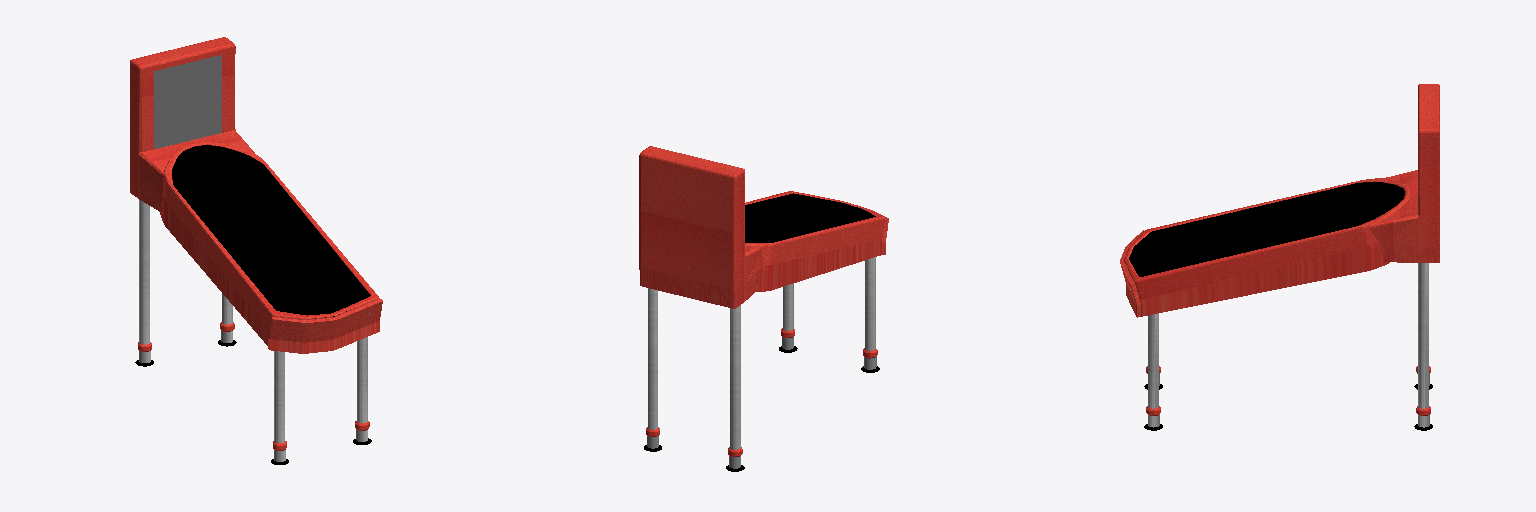
3 views of the same model, side by side, from view 1: azimuth 30°, elevation 25°; view 2: azimuth 150°, elevation 25°; view 3: azimuth 270°, elevation 25° (orthographic).
Visible parts, largest first — view 1: PINBALL_V2:pTorus26; view 2: PINBALL_V2:pTorus26; view 3: PINBALL_V2:pTorus26.
Boxes of the visible parts, x1,y1,x2,y2 form: PINBALL_V2:pTorus26: [130, 37, 382, 464]; PINBALL_V2:pTorus26: [639, 146, 888, 471]; PINBALL_V2:pTorus26: [1120, 84, 1439, 430].
Bounding box in the file's own units: 5.55 × 15.03 × 14.58.
17 materials, 6 textured.